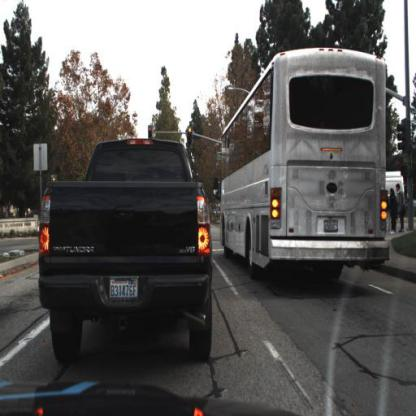car: (44, 140, 212, 357)
pedestrian: (397, 183, 407, 234), (397, 182, 405, 232), (386, 190, 391, 239)
trafficLight: (149, 126, 154, 142)
trafficLight-Red: (187, 127, 194, 147)
trafficLight-RedLeft: (51, 174, 59, 184), (51, 175, 59, 183)
truck: (221, 39, 387, 285), (385, 173, 405, 196)
